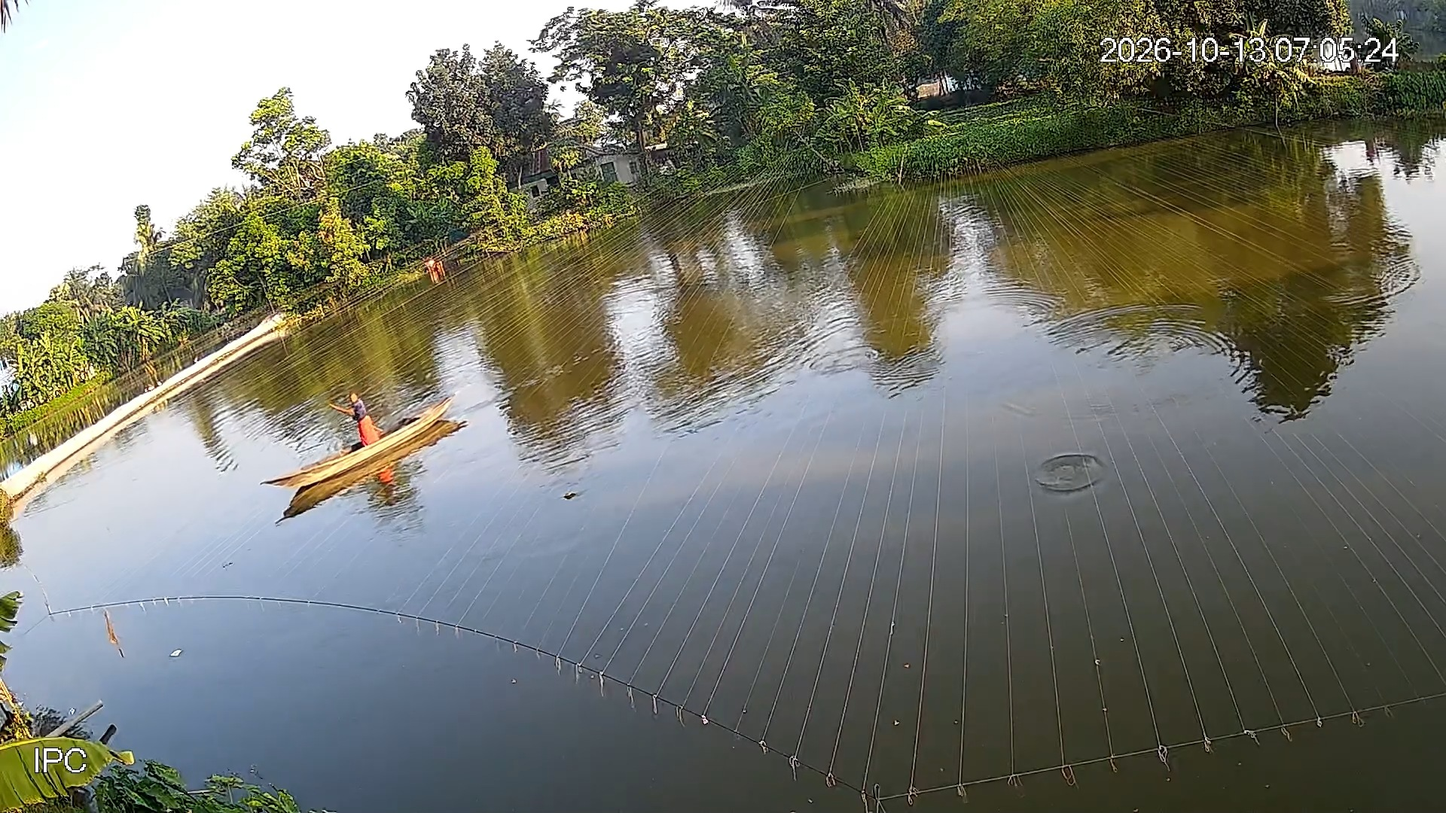Boat: (254, 388, 466, 492)
Human Feeder: (323, 378, 381, 463)
